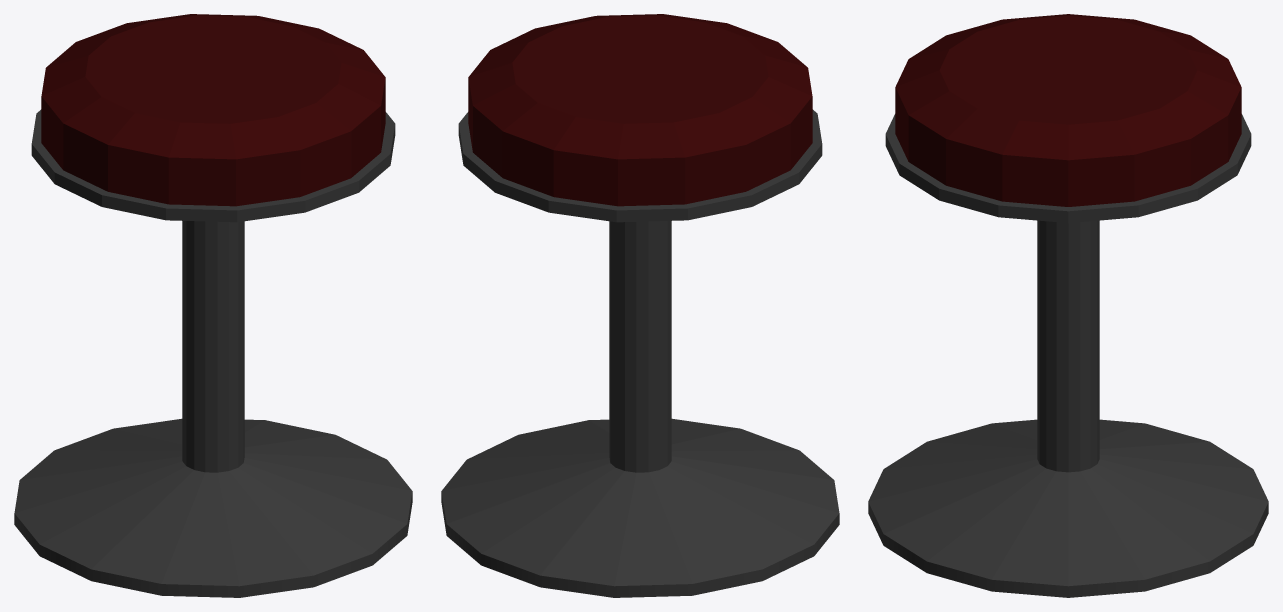
Rendered from chair.fbx.
The picture shows the model from 3 angles, left to right: view 1: azimuth 30°, elevation 25°; view 2: azimuth 150°, elevation 25°; view 3: azimuth 270°, elevation 25°; orthographic projection.
Visible parts, largest first — view 1: Cylinder001; view 2: Cylinder001; view 3: Cylinder001.
Part boxes in pixels (box(x1,y1,x2,y2)): Cylinder001: box(14, 14, 412, 597); Cylinder001: box(441, 14, 839, 597); Cylinder001: box(868, 14, 1268, 597).
Size of the model in its own units: 97.34 by 119 by 97.34.
